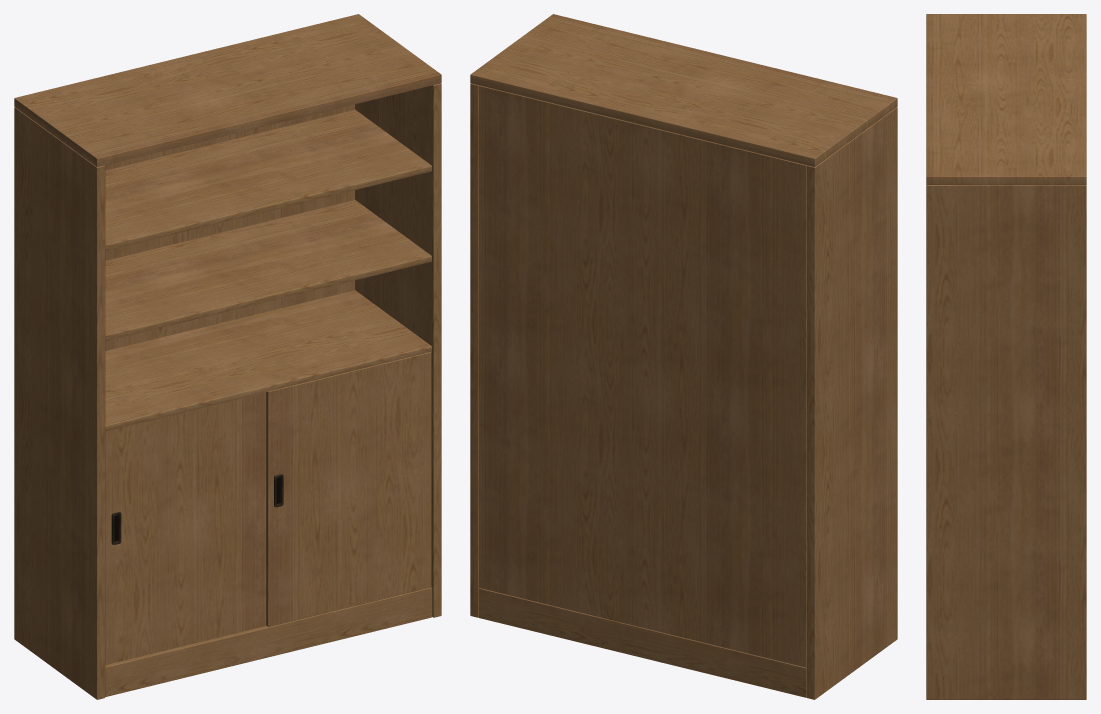
Rendered from Shelf_01.FBX.
3 renders of one model, left to right at view 1: azimuth 30°, elevation 25°; view 2: azimuth 150°, elevation 25°; view 3: azimuth 270°, elevation 25°, orthographic. The views are drawn at different scales.
Parts seen in each view (by area): view 1: Shelf_01; view 2: Shelf_01; view 3: Shelf_01.
Part boxes in pixels (left/top/right/bottom): Shelf_01: left=14, top=14, right=441, bottom=699; Shelf_01: left=470, top=14, right=897, bottom=699; Shelf_01: left=926, top=14, right=1086, bottom=699.
Bounding box in the file's own units: 120 × 180 × 50.
